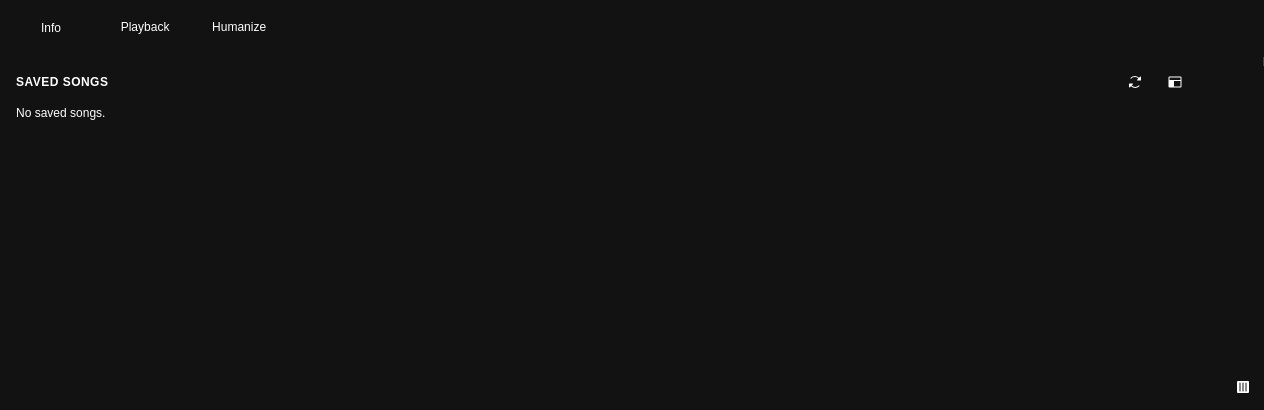
Scenario: PlaybackTab generate pedal events button follows the pedal style › is enabled for the default style once the notes are compiled
Step 1. Click the button "Playback" → (145, 27), box [102, 12, 188, 42]
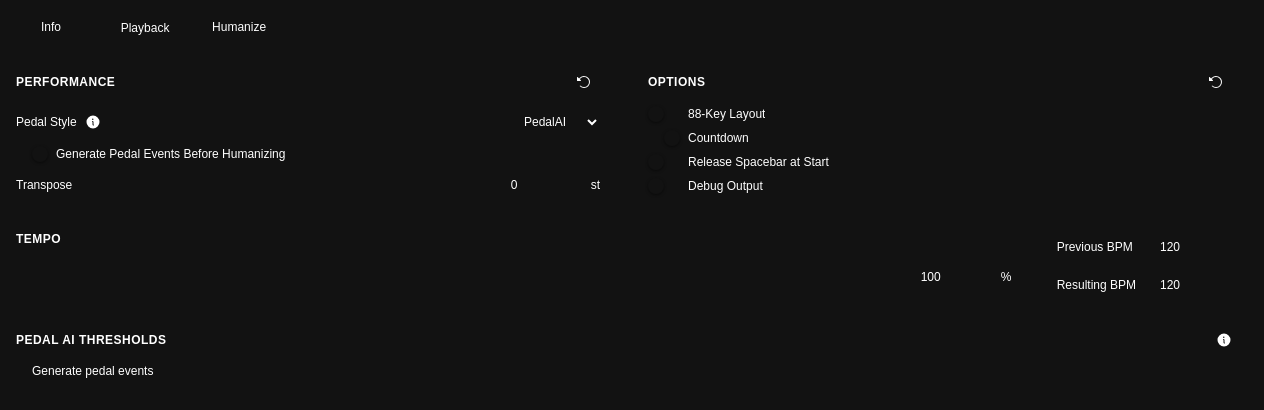
Check: the button "Generate pedal events" is enabled, box [16, 356, 169, 386]
